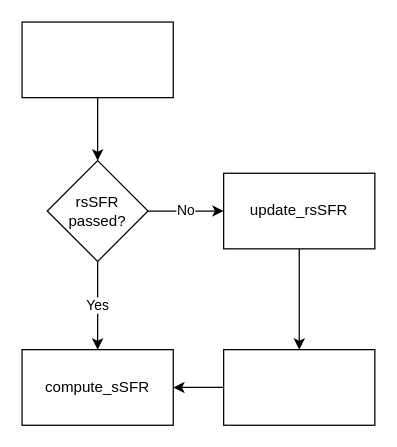
The diagram is 397 pixels wide and 447 high, and some of its shapes have lost their labels. Here are the shapes that lost their labels. From the top down, the centre of each, then its label:
At (x=97, y=59): "update_sSFR".
At (x=298, y=386): "compute_rsSFR".
